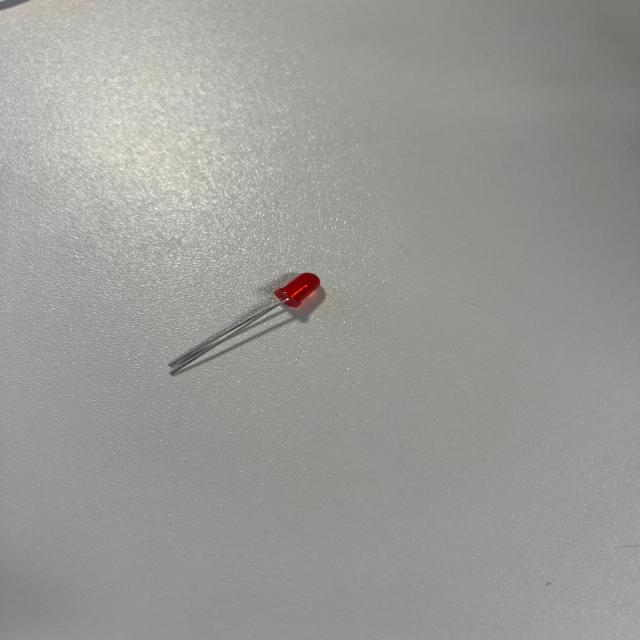REDLed: (156, 251, 355, 381)
